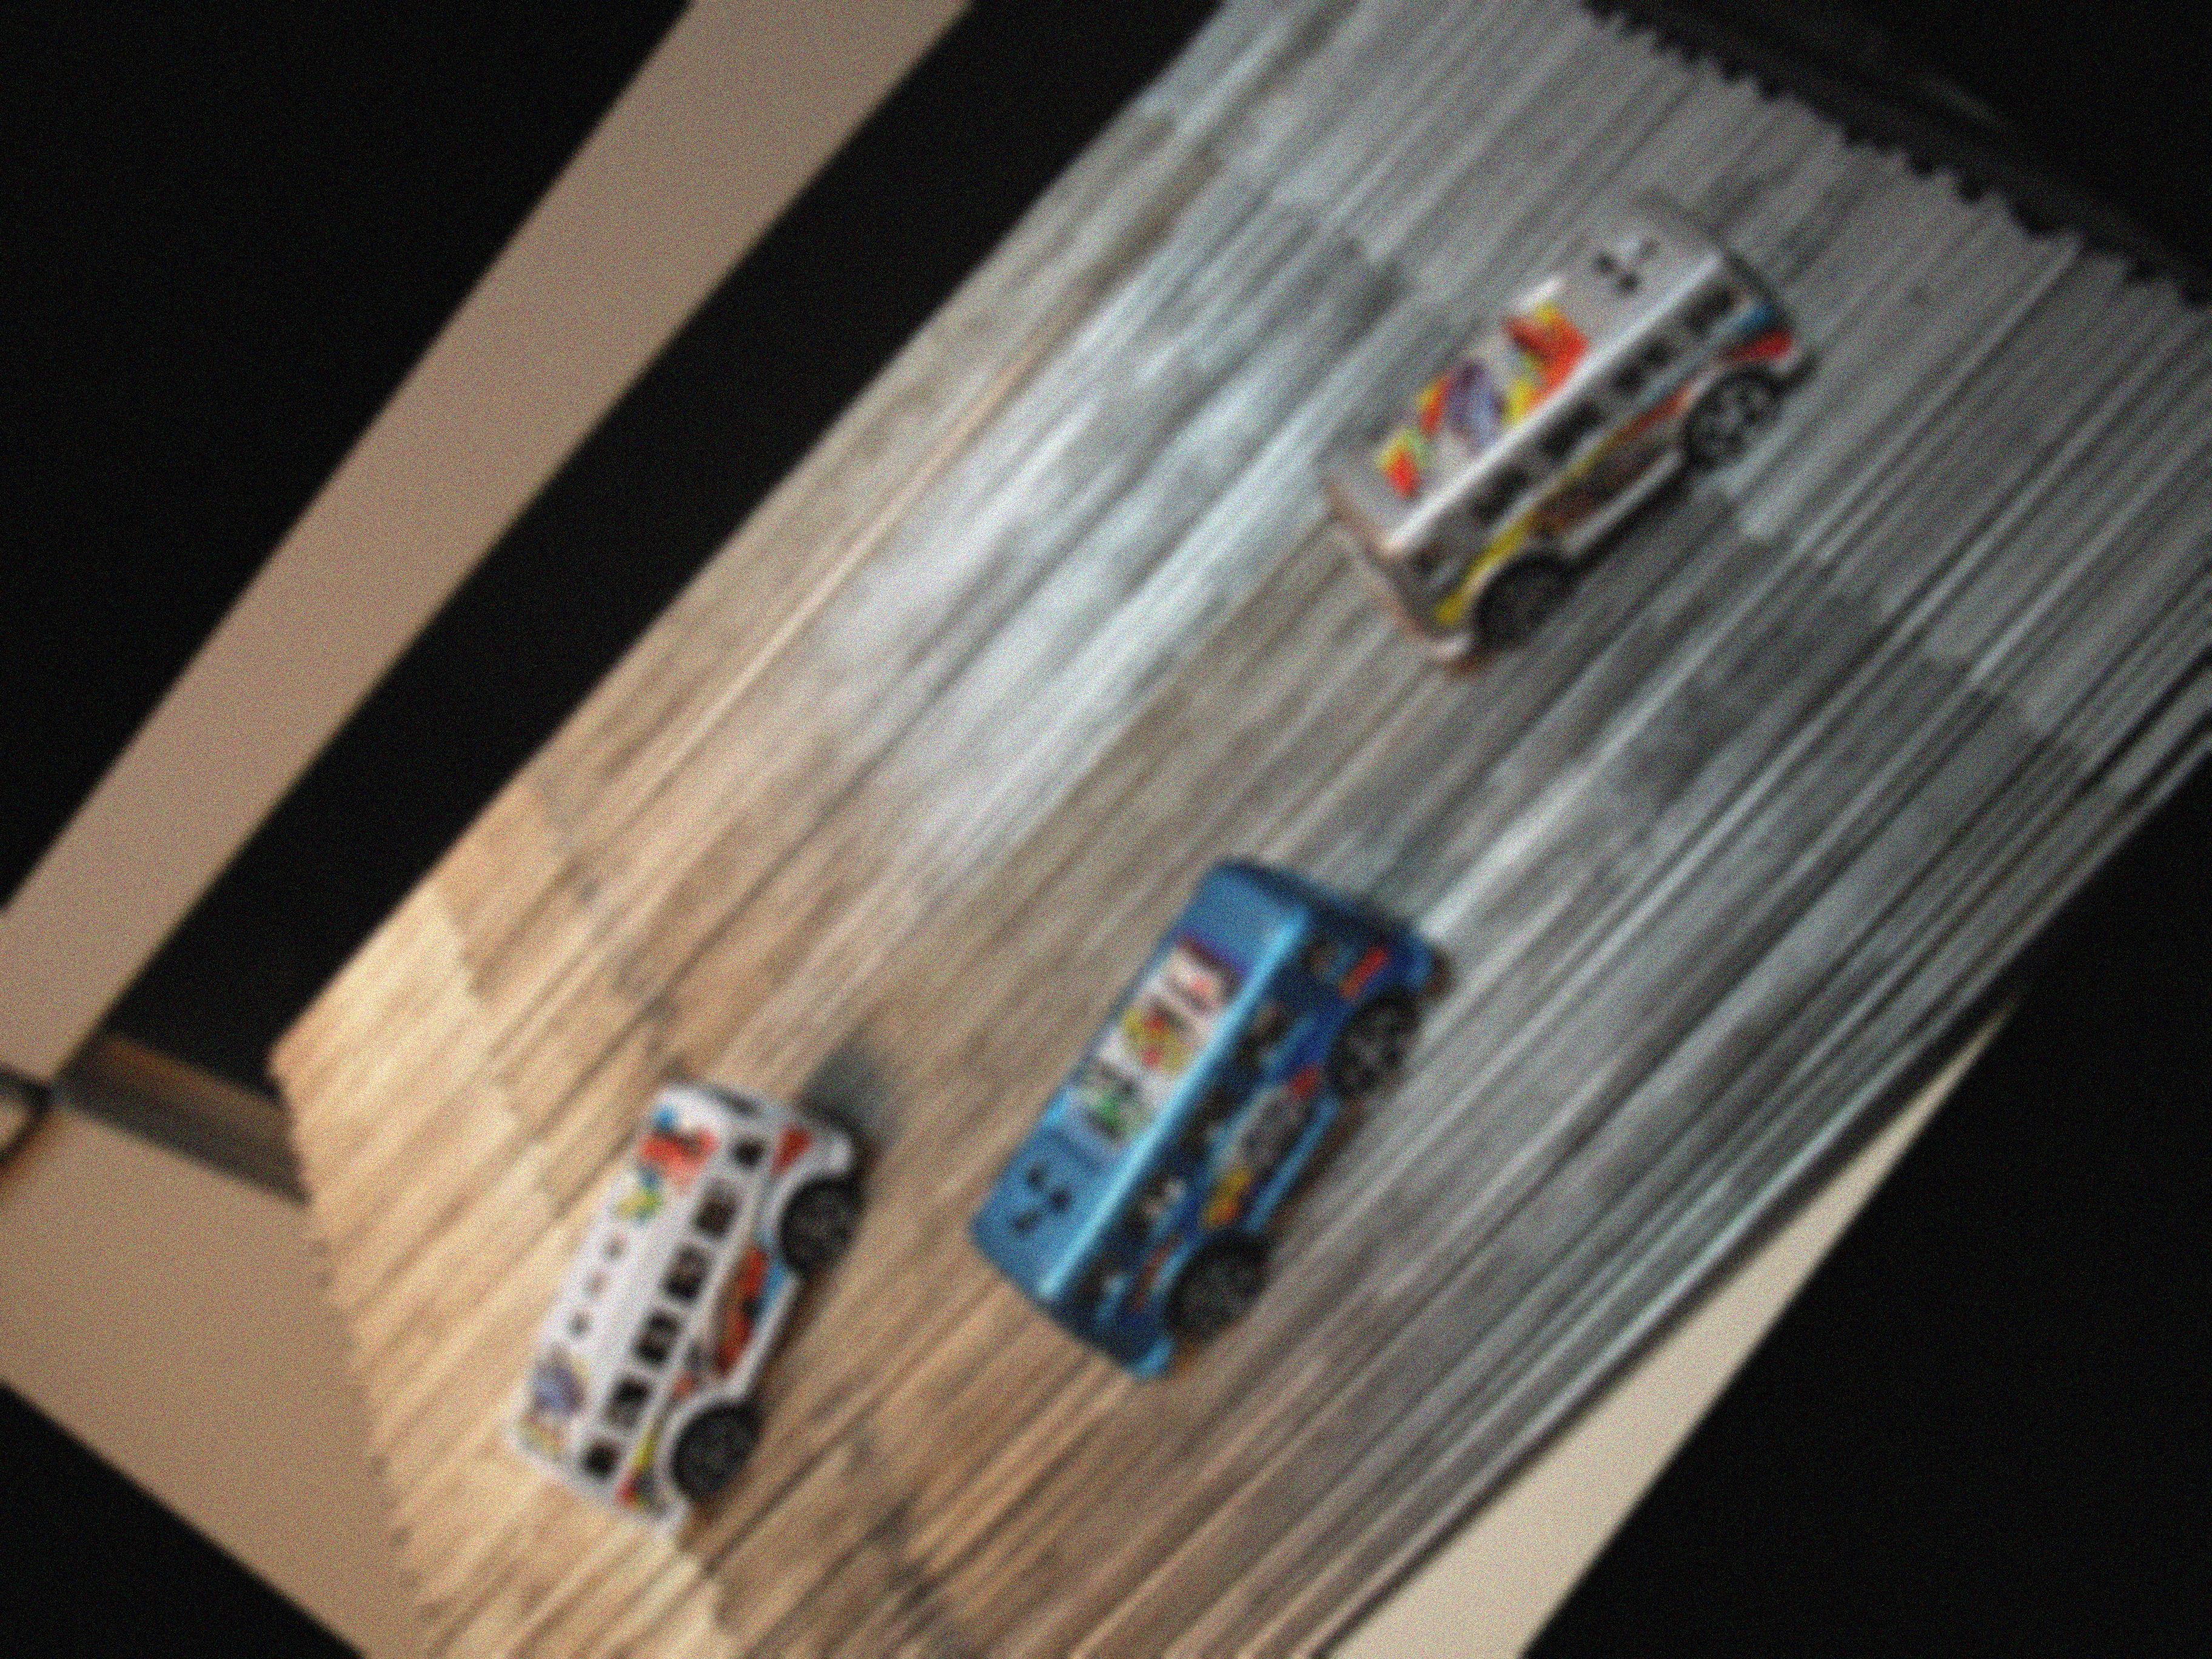Blue: (965, 861, 1460, 1392)
Gray: (1332, 199, 1815, 674)
White: (509, 1080, 860, 1528)
